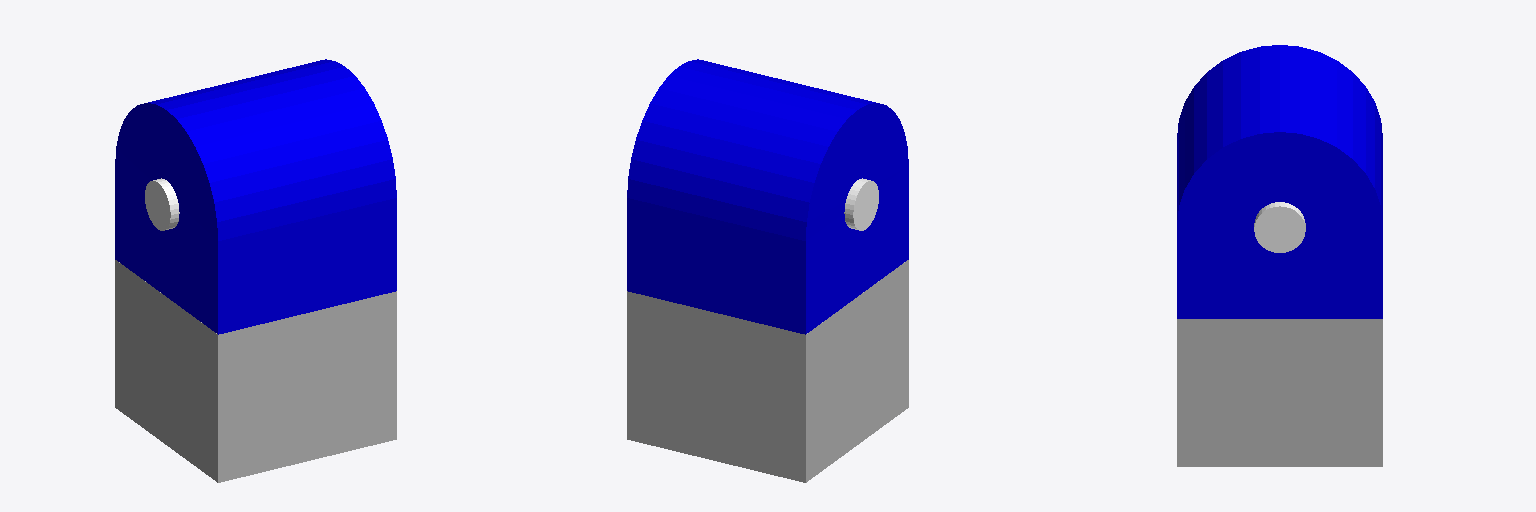
3 views of the same model, side by side, from view 1: azimuth 30°, elevation 25°; view 2: azimuth 150°, elevation 25°; view 3: azimuth 270°, elevation 25° (orthographic).
Visible parts, largest first — view 1: body_l_int_springvpin_collision_Cube.012; view 2: body_l_int_springvpin_collision_Cube.012; view 3: body_l_int_springvpin_collision_Cube.012.
Boxes of the visible parts, x1=… form: body_l_int_springvpin_collision_Cube.012: x1=115, y1=59, x2=396, y2=482; body_l_int_springvpin_collision_Cube.012: x1=627, y1=59, x2=908, y2=482; body_l_int_springvpin_collision_Cube.012: x1=1177, y1=45, x2=1382, y2=466.
Bounding box in the file's own units: 0.022 × 0.0359 × 0.02.
Materials: 2 (1 with a texture image).